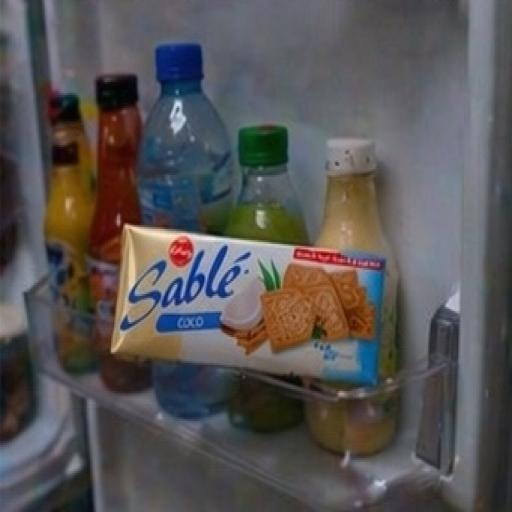sabl: (87, 174, 439, 438)
